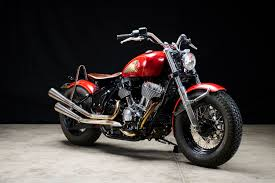motorcycle: (48, 18, 242, 169)
